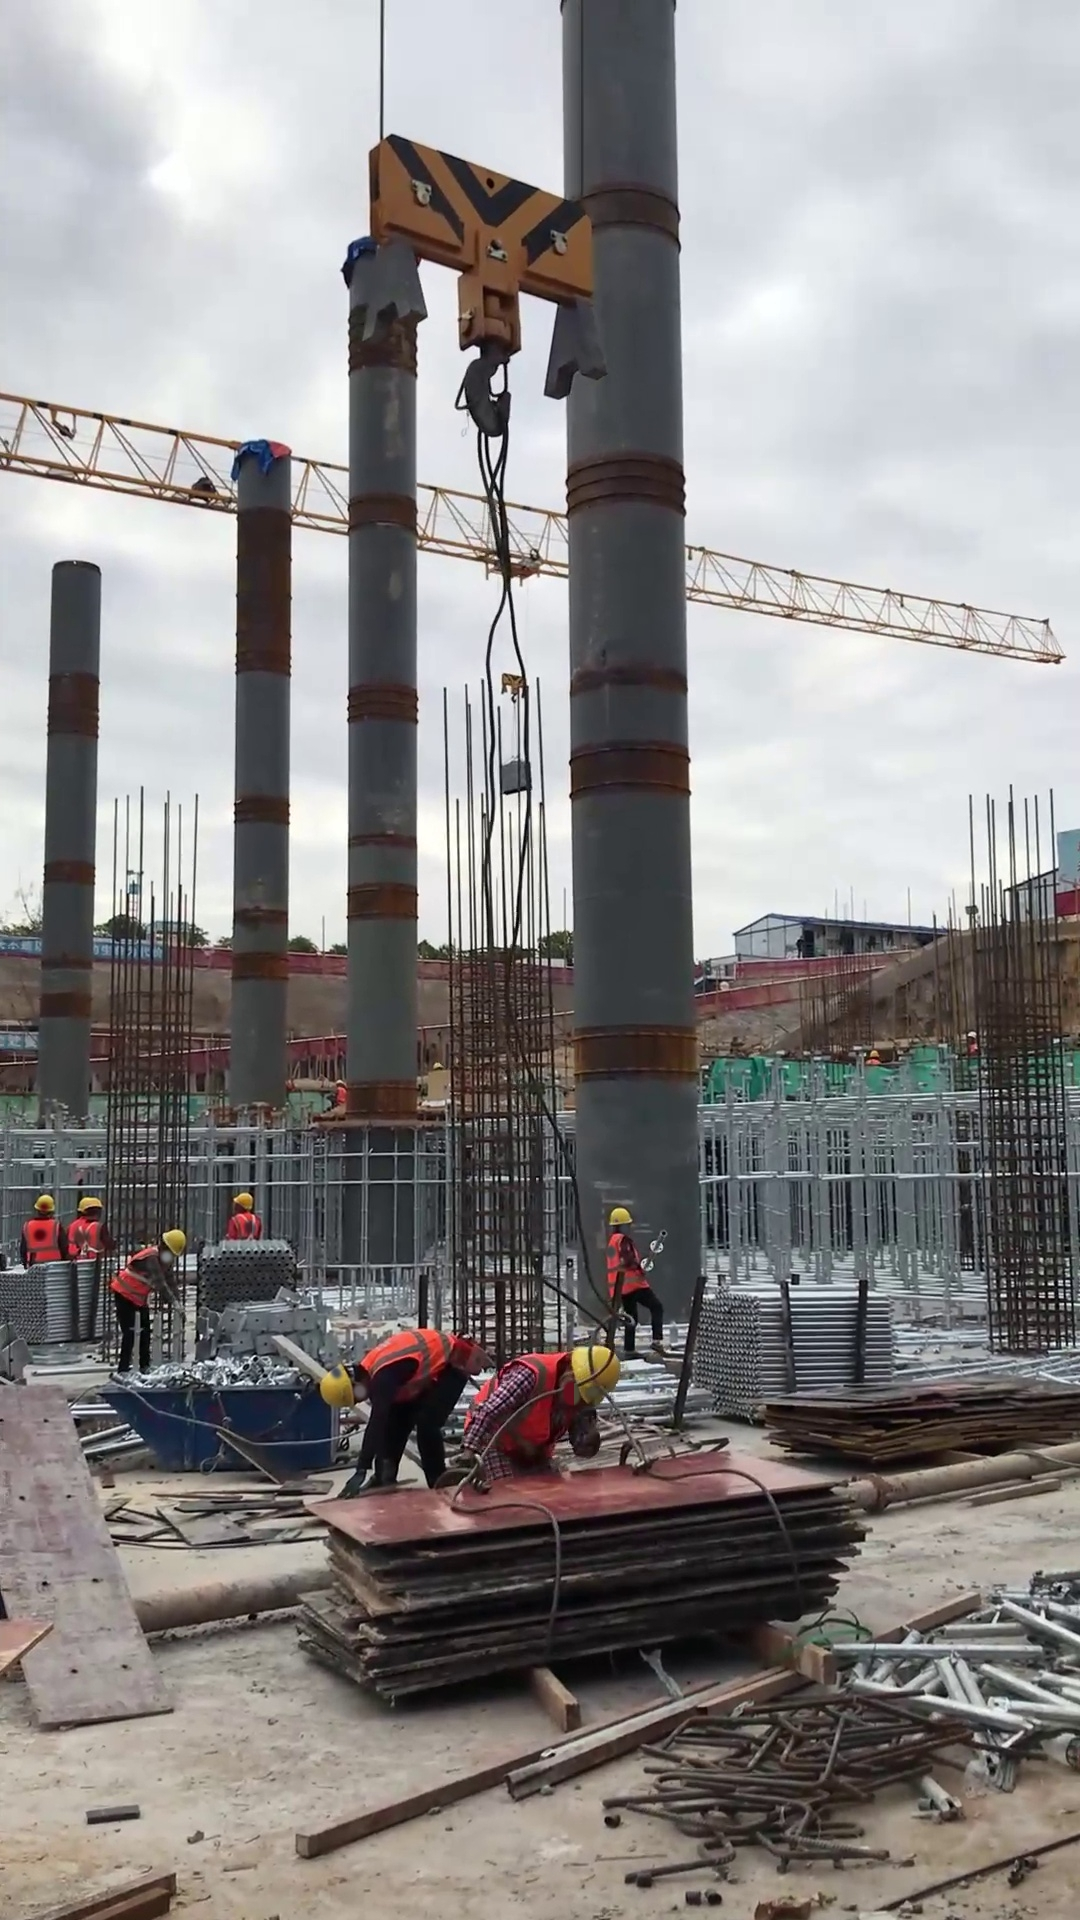board: (302, 1454, 862, 1698), (760, 1370, 1080, 1460)
helmet: (570, 1344, 621, 1408), (317, 1360, 360, 1416), (160, 1228, 189, 1259), (75, 1194, 106, 1215), (608, 1205, 632, 1230), (31, 1193, 59, 1214), (232, 1190, 254, 1210), (966, 1027, 981, 1041), (868, 1048, 880, 1060), (430, 1060, 445, 1070), (334, 1076, 345, 1085)
hook: (354, 133, 609, 437), (499, 667, 527, 705)
hopper: (93, 1381, 345, 1473)
person: (315, 1321, 484, 1501), (462, 1342, 621, 1491), (108, 1227, 192, 1382), (603, 1205, 669, 1358), (16, 1193, 72, 1270), (68, 1195, 117, 1262), (222, 1190, 261, 1240), (329, 1075, 348, 1108)
scaffold: (684, 1281, 899, 1418), (1, 1261, 115, 1346), (195, 1238, 298, 1310)
slogan: (1, 936, 165, 966), (1, 1029, 44, 1057)
vest: (463, 1350, 576, 1464), (359, 1328, 484, 1409), (109, 1246, 170, 1308), (605, 1233, 653, 1298), (21, 1215, 64, 1264), (67, 1218, 108, 1260), (230, 1211, 261, 1240), (335, 1086, 348, 1110)
